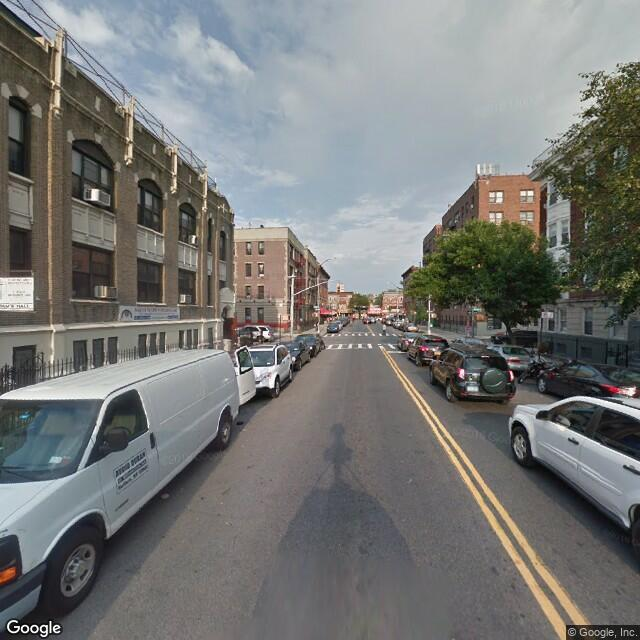litter: (155, 487, 173, 505), (228, 414, 249, 426)
